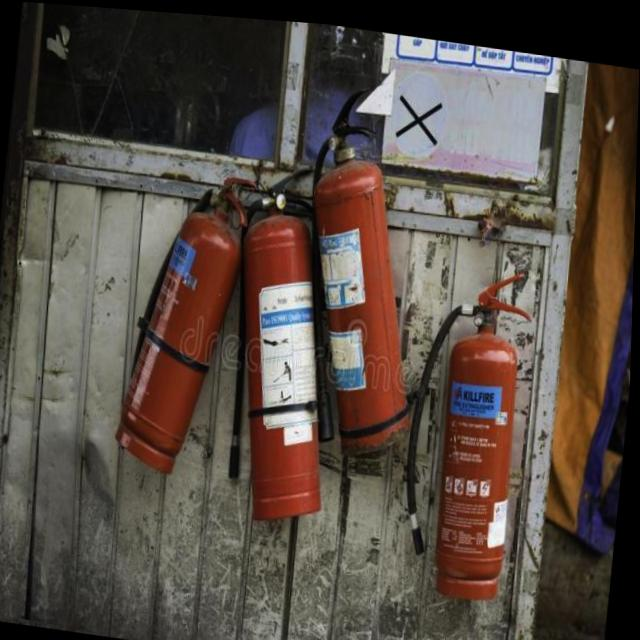FireExtinguisher: (283, 66, 446, 465), (214, 144, 357, 534), (393, 244, 542, 600), (110, 151, 259, 483)
